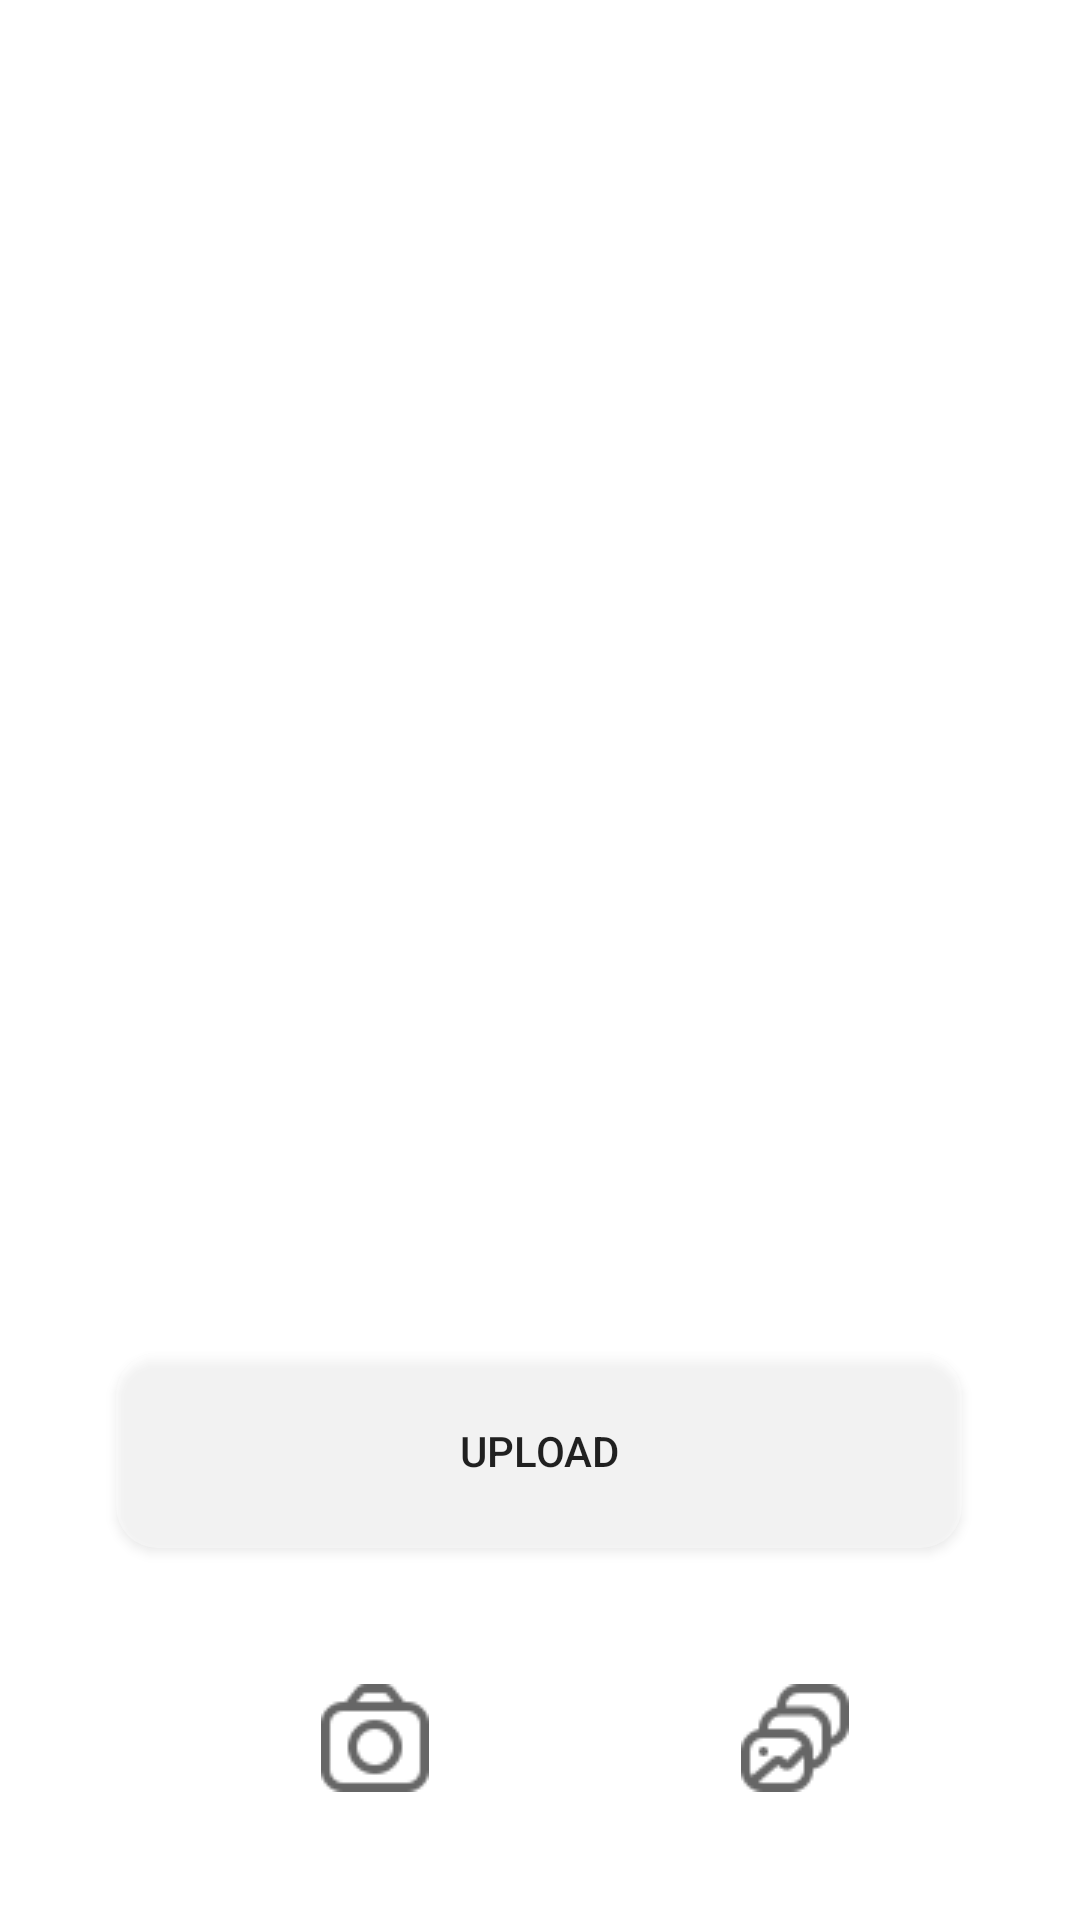

Icons on this 1080x1920 Android screen, each with its box as (x1, y1, x2, y2):
camera: (321, 1684, 429, 1792)
gallery: (741, 1684, 849, 1792)
